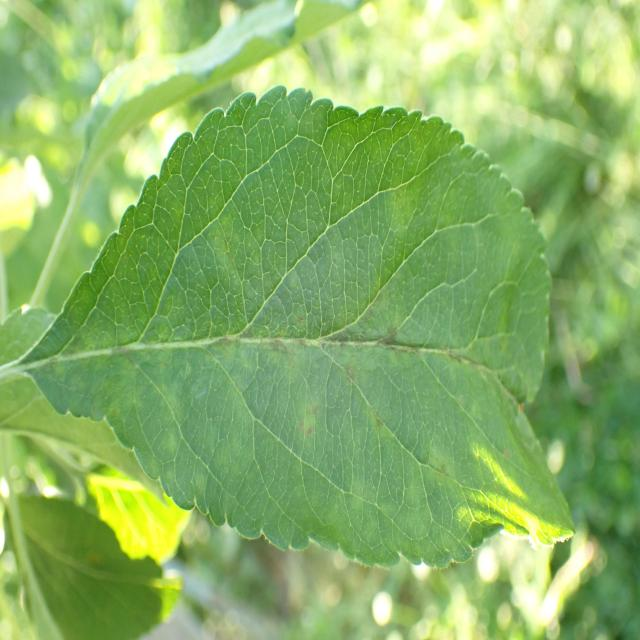scab: (37, 291, 540, 459)
